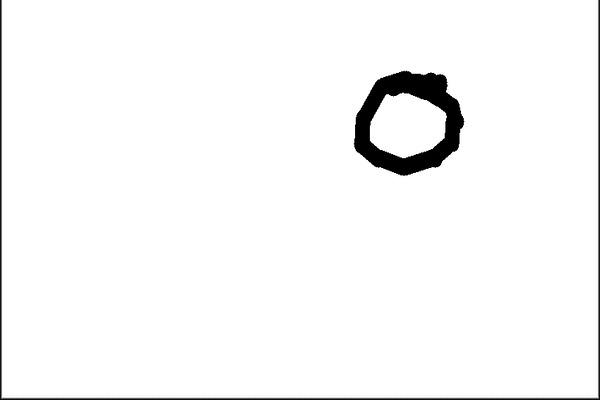O: (343, 63, 470, 182)
